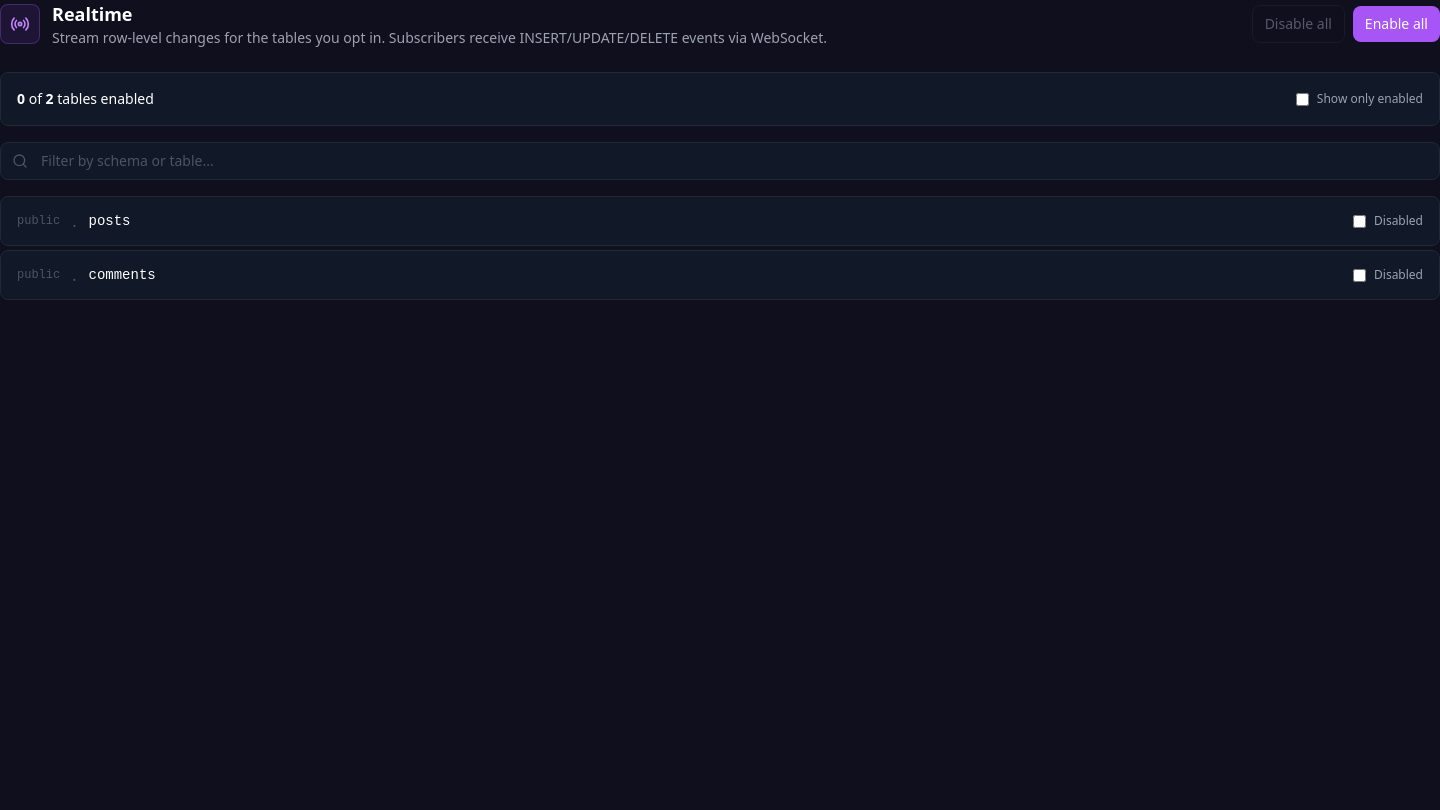
Test: RealtimePage › Enable all opens confirmation modal then bulk-enables
expect the element with test id "realtime-row-public-posts" is shown: met, box [0, 196, 1439, 246]
Click the button with test id "realtime-enable-all".
click(1396, 24)  # box [1353, 6, 1439, 42]
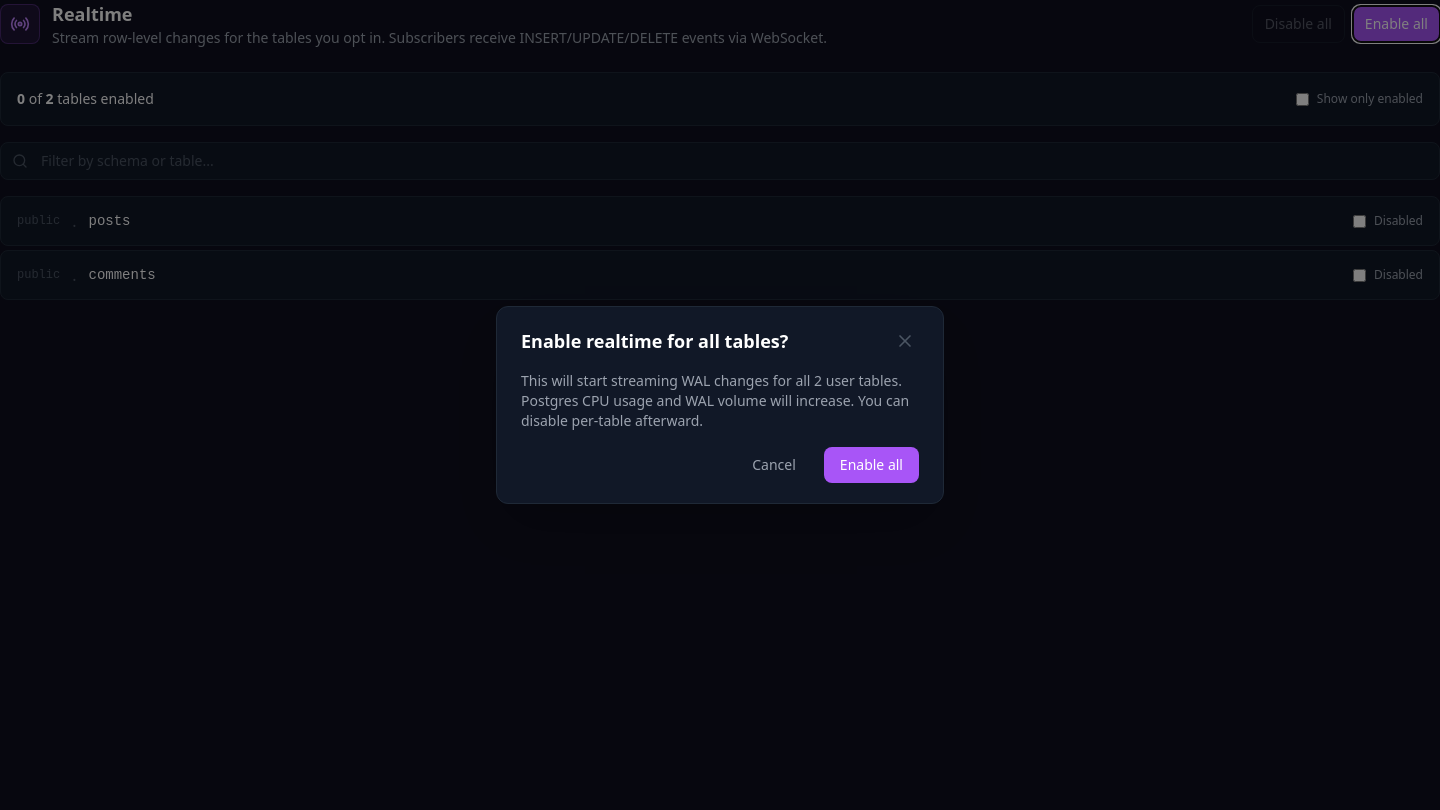
expect the heading "Enable realtime for all tables?" is shown: met, box [521, 329, 788, 353]
// Confirm via the modal's Enable all button
Click the button "Enable all".
click(871, 465)  # box [824, 447, 919, 483]
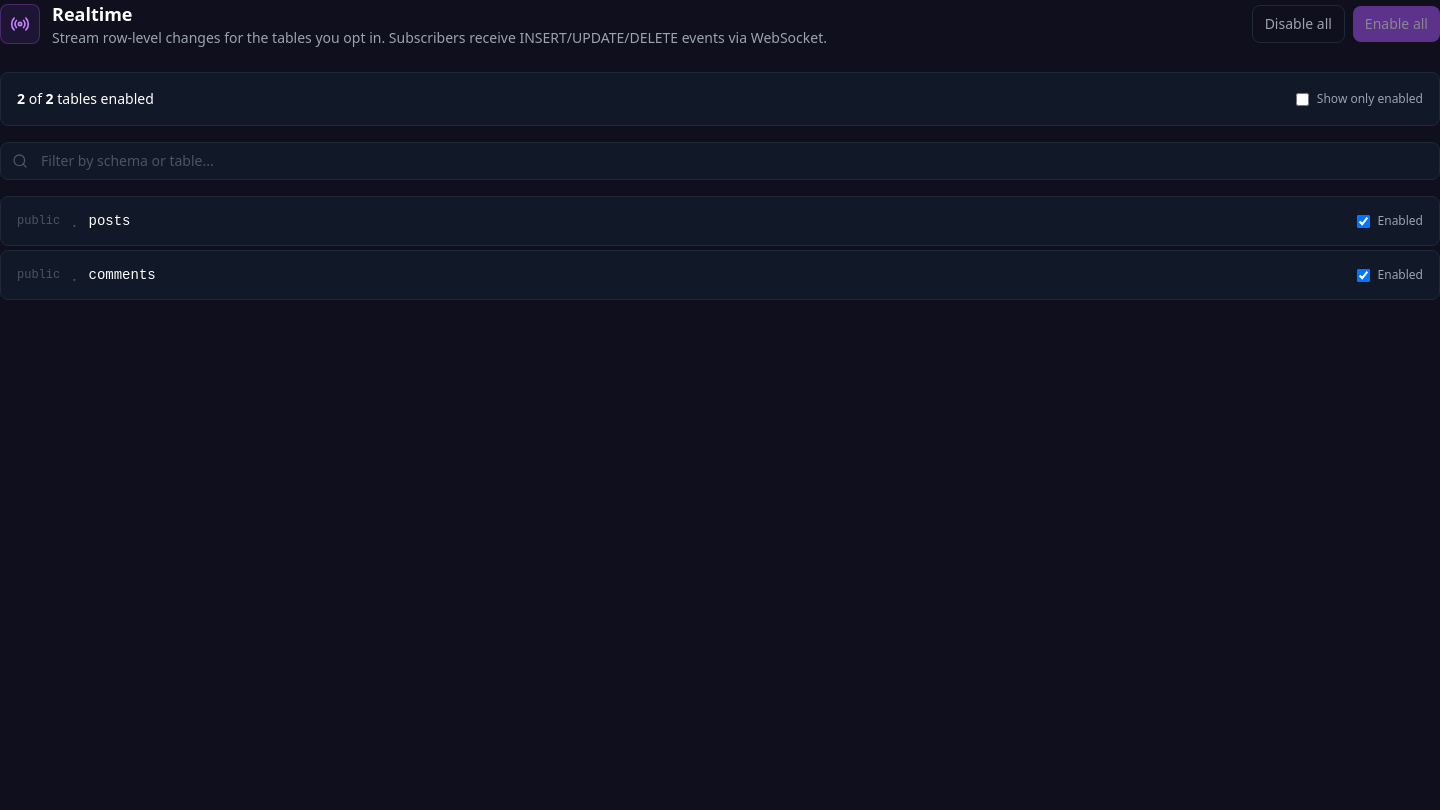
expect the checkbox with test id "realtime-toggle-public-posts" is checked: met, box [1356, 214, 1370, 228]
expect the checkbox with test id "realtime-toggle-public-comments" is checked: met, box [1356, 268, 1370, 282]
